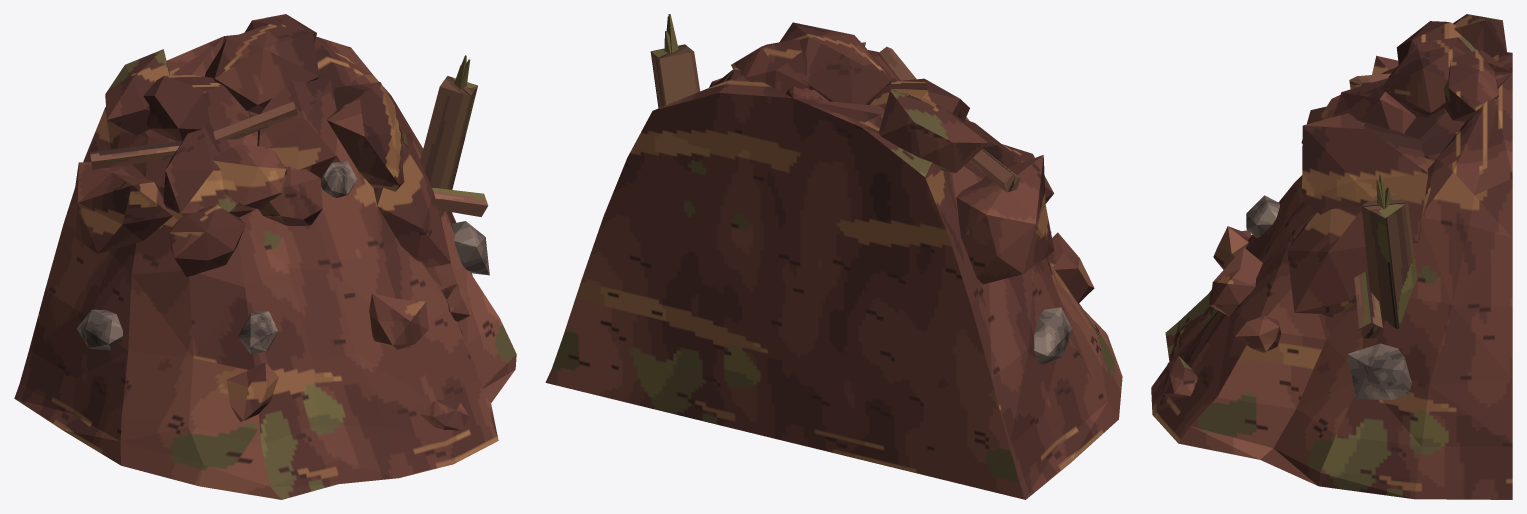
Rendered from SM_AN42_Rubble_C.fbx.
The picture shows the model from 3 angles, left to right: view 1: azimuth 30°, elevation 25°; view 2: azimuth 150°, elevation 25°; view 3: azimuth 270°, elevation 25°; orthographic projection. The views are drawn at different scales.
Parts seen in each view (by area): view 1: AN42c_Earth, AN42c_Props, AN42c_Wood, AN42c_Root; view 2: AN42c_Earth, AN42c_Wood, AN42c_Props, AN42c_Root; view 3: AN42c_Earth, AN42c_Wood, AN42c_Props, AN42c_Root.
Part boxes in pixels (x1,y1,x2,y2): AN42c_Earth: (14, 14, 516, 499); AN42c_Props: (76, 161, 489, 353); AN42c_Wood: (420, 55, 477, 217); AN42c_Root: (90, 102, 488, 216); AN42c_Earth: (545, 22, 1122, 499); AN42c_Wood: (650, 14, 700, 108); AN42c_Props: (1034, 232, 1072, 364); AN42c_Root: (879, 46, 1020, 192); AN42c_Earth: (1151, 14, 1512, 499); AN42c_Wood: (1361, 175, 1417, 328); AN42c_Props: (1246, 195, 1411, 400); AN42c_Root: (1349, 73, 1391, 338).
Bounding box in the file's own units: 2.07 × 1.56 × 1.47.
